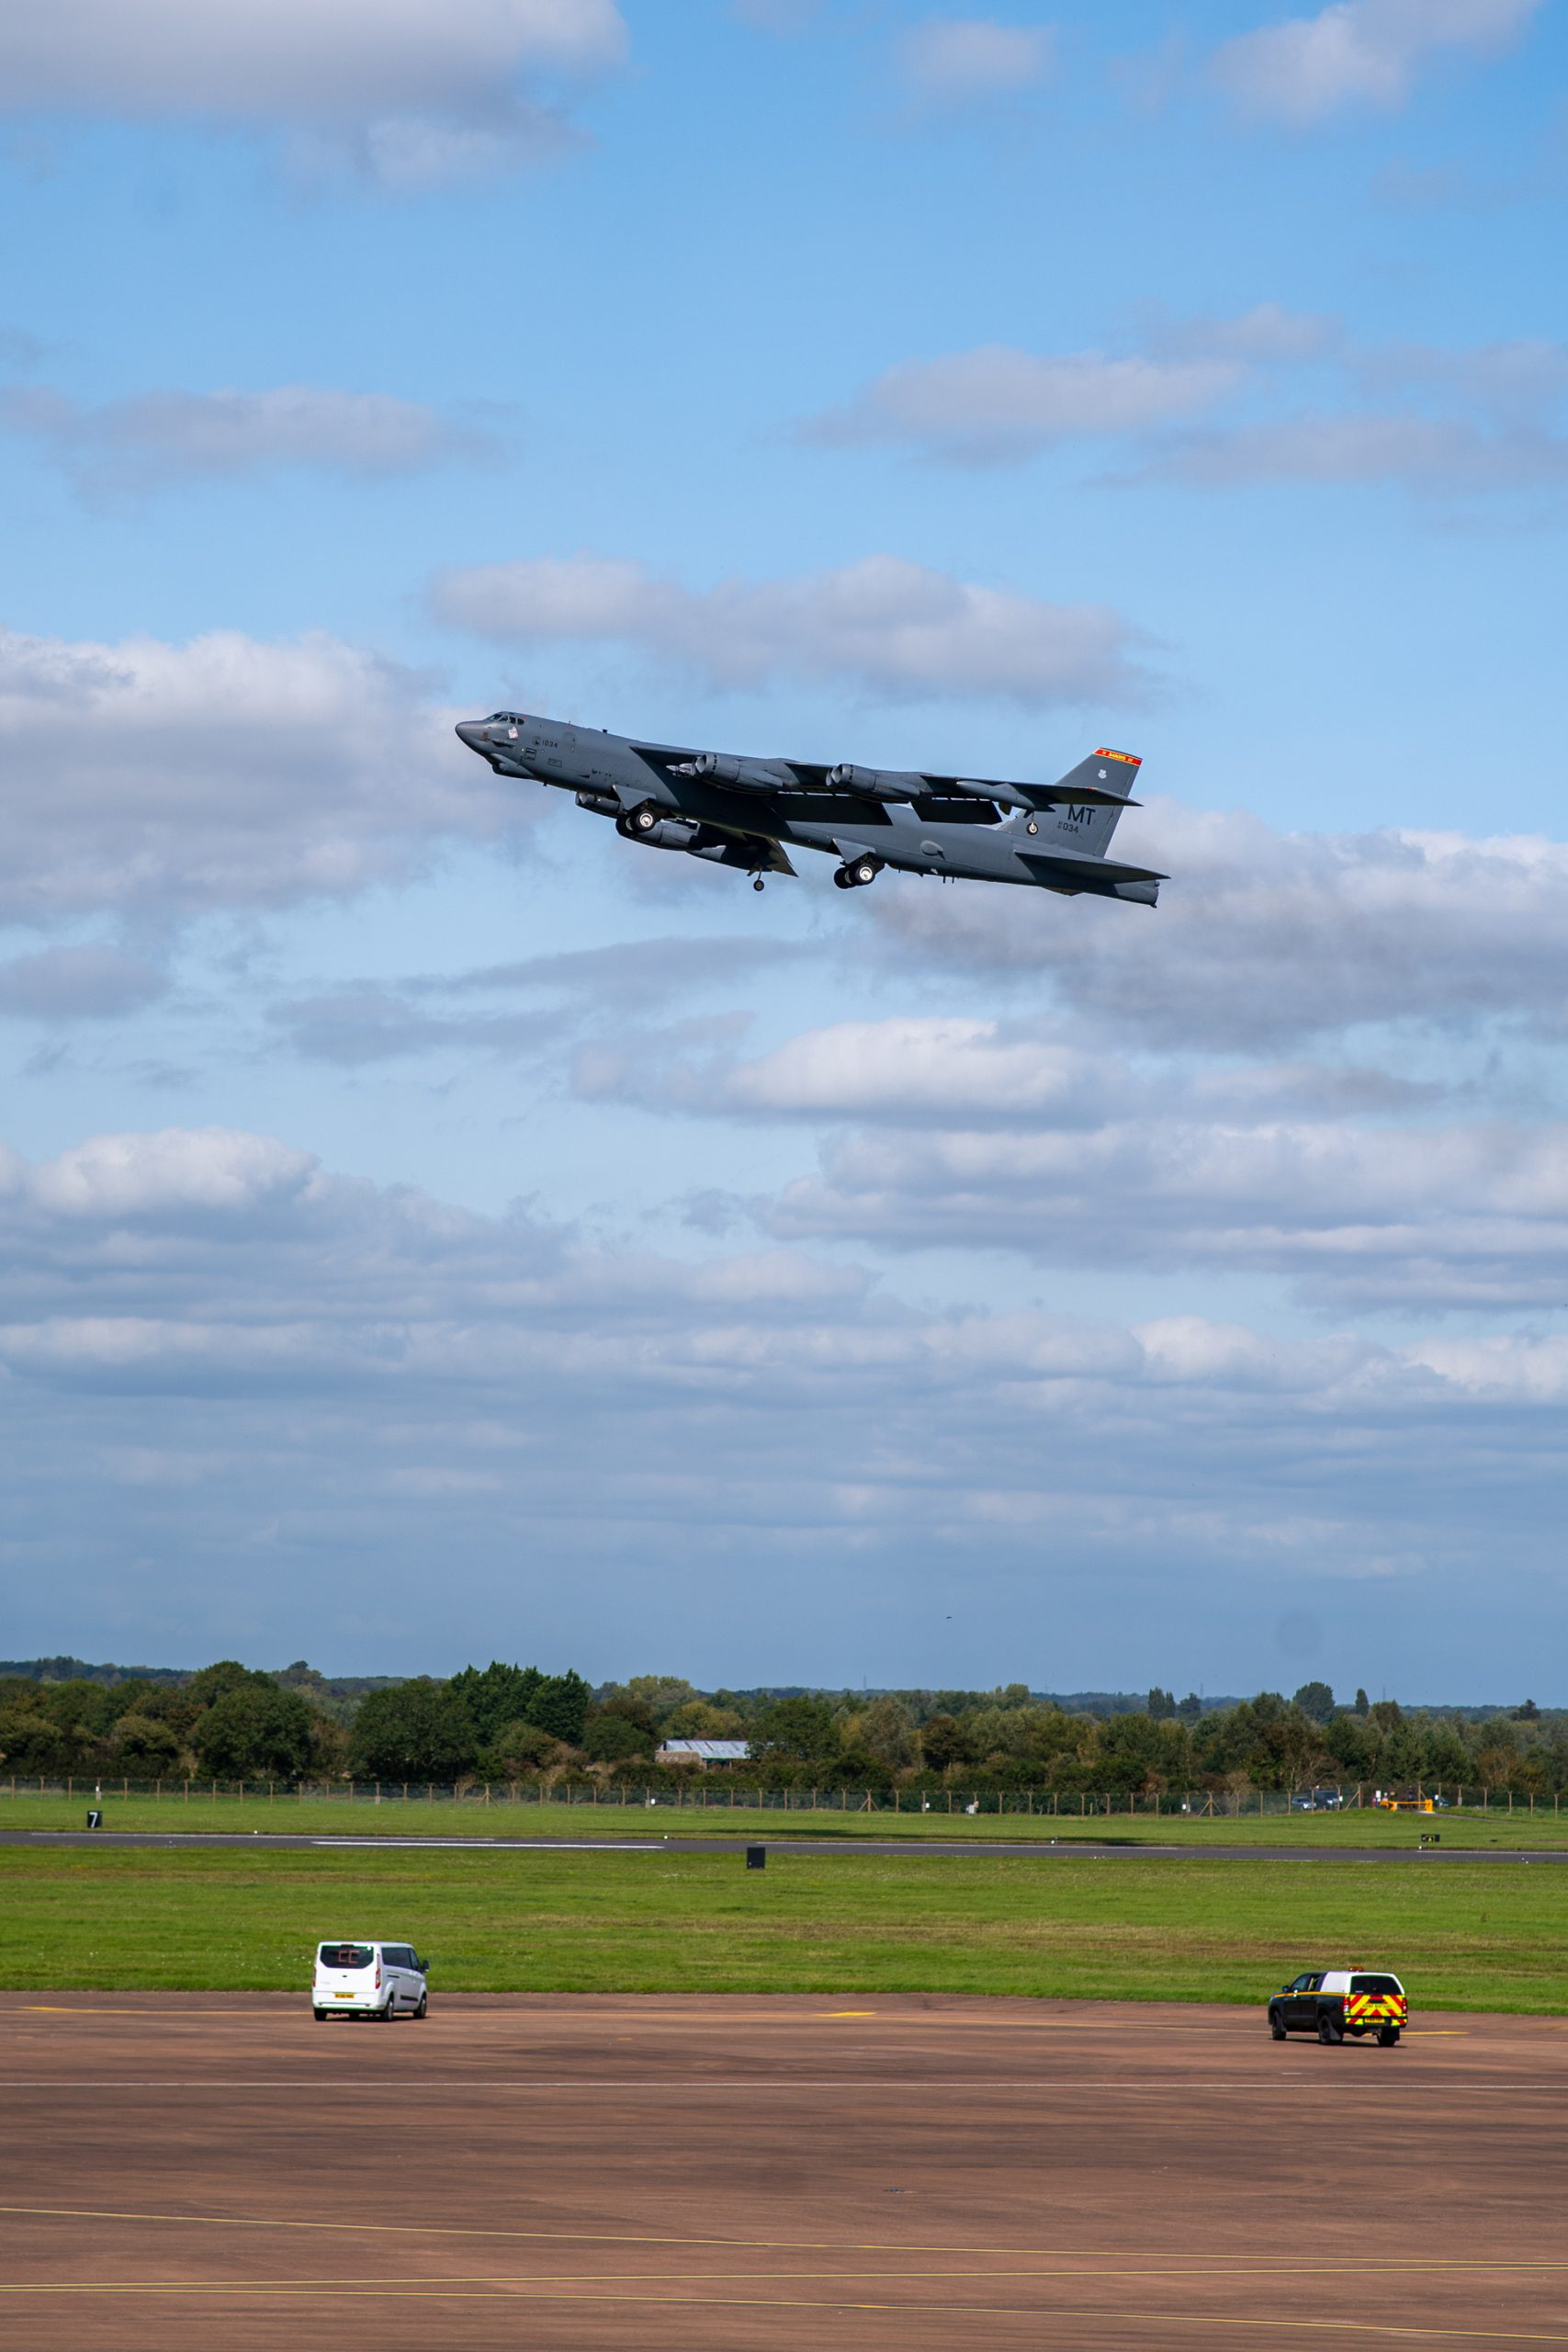B52: (453, 710, 1172, 910)
